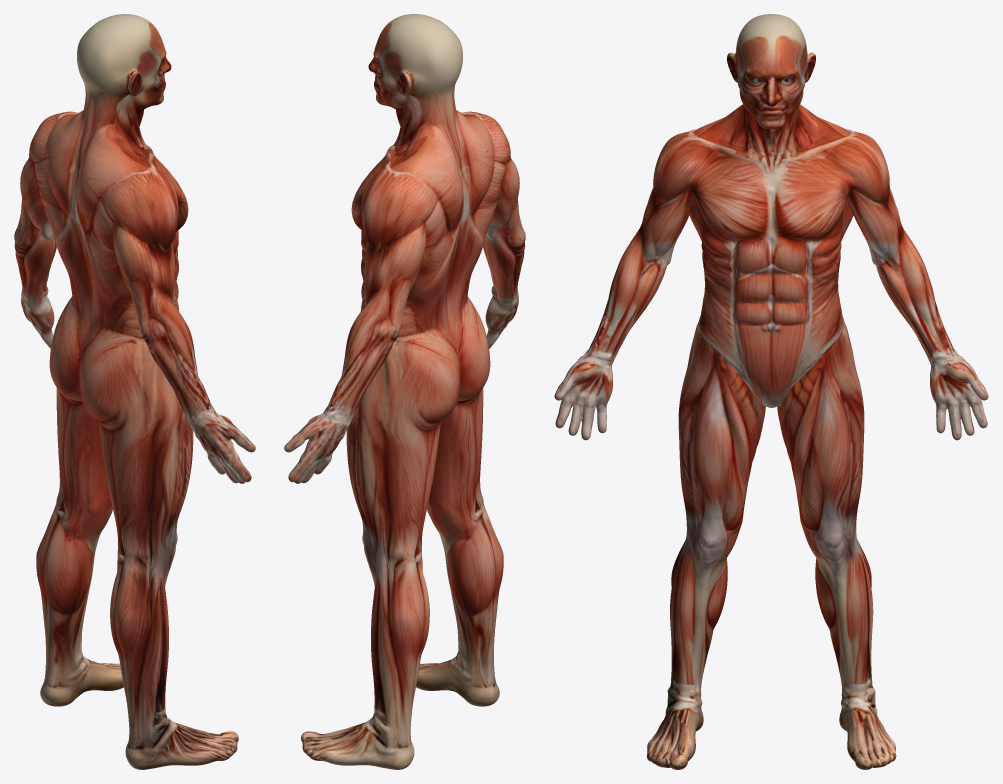
The model's file is HumanAnatomyModel2.glb.
3 renders of one model, left to right at view 1: azimuth 30°, elevation 25°; view 2: azimuth 150°, elevation 25°; view 3: azimuth 270°, elevation 25°, orthographic.
Visible parts, largest first — view 1: tripo_node_7e093638-f96a-43a7-bf5b-a314b9ae389c; view 2: tripo_node_7e093638-f96a-43a7-bf5b-a314b9ae389c; view 3: tripo_node_7e093638-f96a-43a7-bf5b-a314b9ae389c.
Boxes of the visible parts, bbox=[...] form: tripo_node_7e093638-f96a-43a7-bf5b-a314b9ae389c: bbox=[14, 14, 255, 769]; tripo_node_7e093638-f96a-43a7-bf5b-a314b9ae389c: bbox=[284, 14, 525, 769]; tripo_node_7e093638-f96a-43a7-bf5b-a314b9ae389c: bbox=[554, 14, 988, 769].
Bounding box in the file's own units: 0.1837 × 1 × 0.5439.
Materials: 1 (1 with a texture image).
